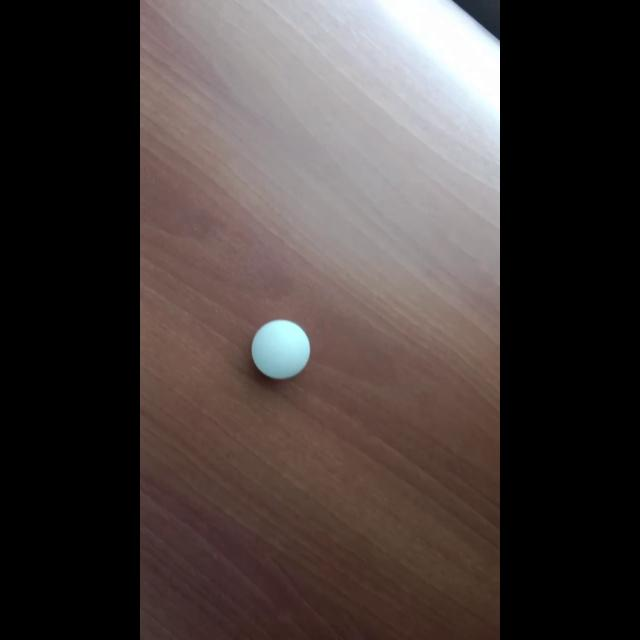white ball: (250, 318, 310, 380)
